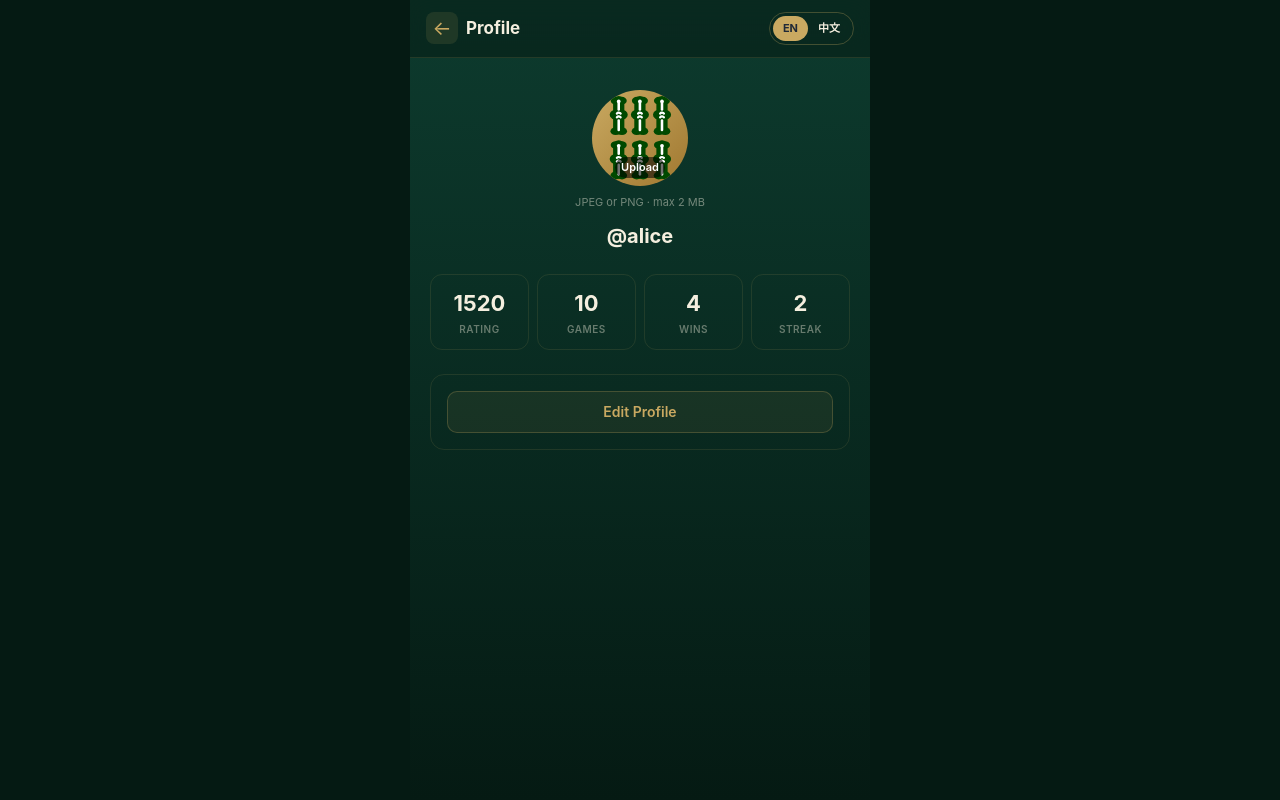
Test: ProfilePage › shows edit form when "Edit Profile" is clicked
This screenshot has width=1280, height=800.
Click the button "Edit Profile". click: {"x": 640, "y": 412}
box: [447,391,833,433]
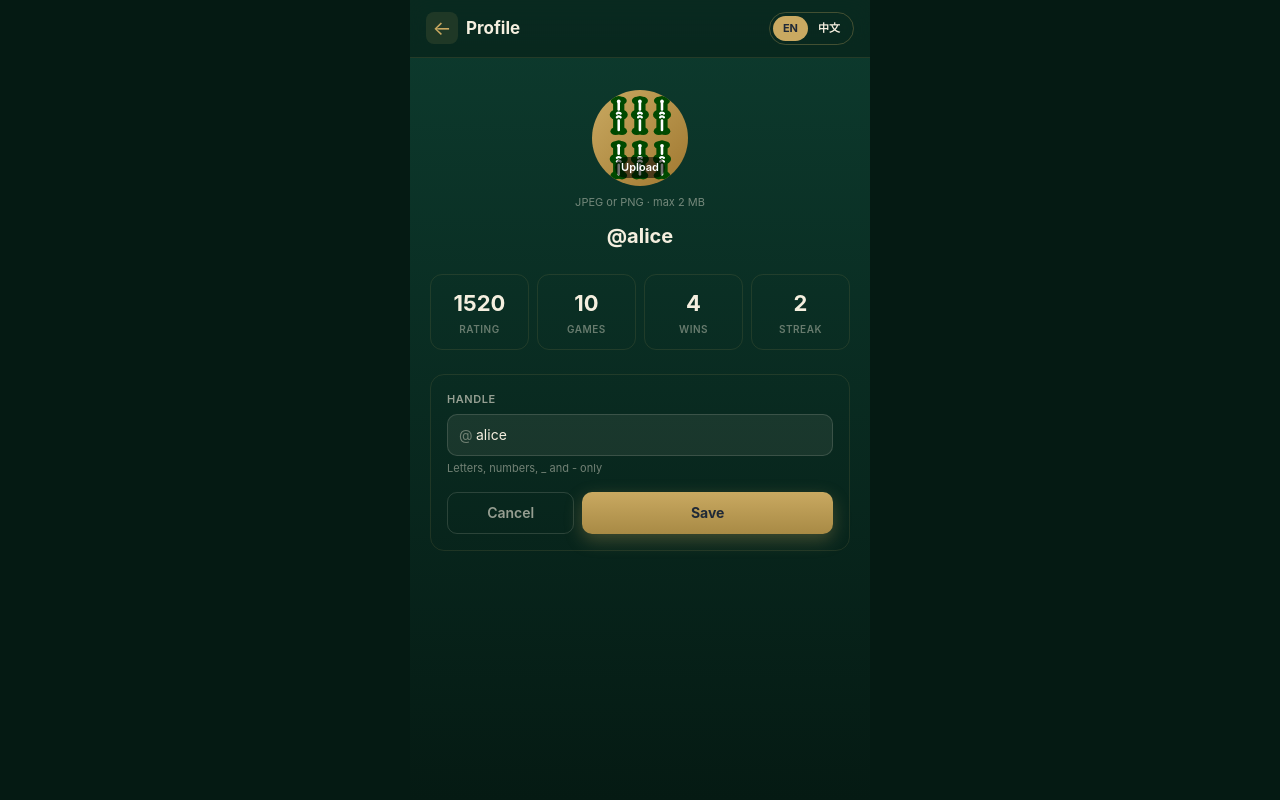
Now the field showing "alice" is shown, box [447,414,833,456]
